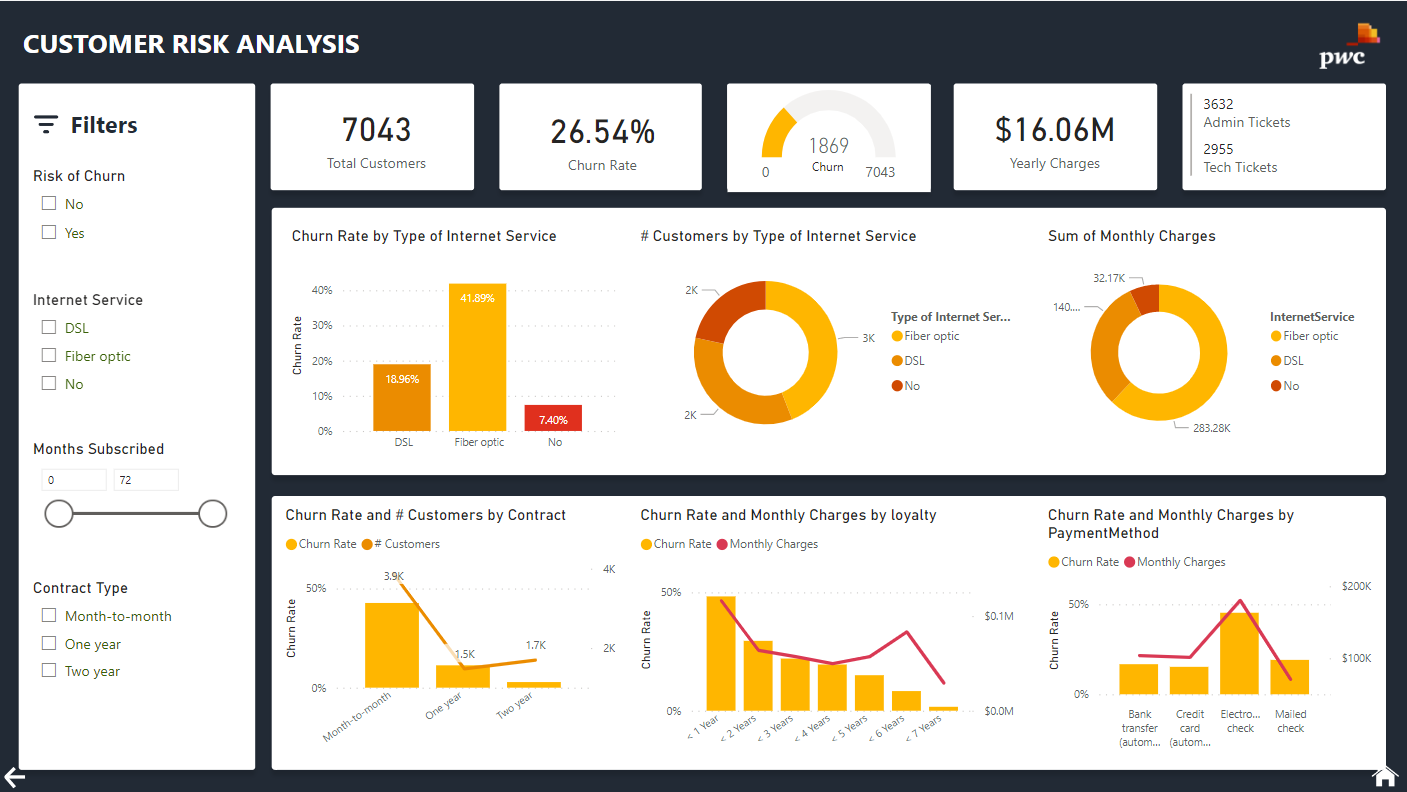

Layout of this report page (visuals, bound fields, positions):
{"tool":"powerbi","page":{"name":"Customer Risk Analysis","canvas":[1280,720],"ordinal":2},"visuals":[{"type":"multiRowCard","fields":{"Values":["_Measures.Admin Tickets","_Measures.Tech Tickets"]},"box":[1077,79.6,185.7,91.7],"z":0},{"type":"card","fields":{"Values":["_Measures.# Customers"]},"box":[247.2,71.2,189.3,103.7],"z":1000},{"type":"card","fields":{"Values":["_Measures.Yearly Charges"]},"box":[869.5,73.6,179.7,97.7],"z":2000},{"type":"card","fields":{"Values":["_Measures.Churn Rate"]},"box":[455.9,78.4,184.5,92.9],"z":3000},{"type":"gauge","fields":{"MaxValue":["_Measures.Total Customers"],"Y":["_Measures.Churned Customers"]},"box":[660.9,76,184.5,97.7],"z":4000},{"type":"clusteredColumnChart","fields":{"Category":["Customers.InternetService"],"Y":["_Measures.Churn Rate"]},"box":[260.5,206.2,303.9,212.3],"z":5000},{"type":"donutChart","fields":{"Y":["_Measures.Total Customers"],"Category":["Customers.InternetService"]},"box":[577.7,206.2,349.7,212.3],"z":6000},{"type":"donutChart","title":"Sum of Monthly Charges ","fields":{"Y":["Sum(Customers.MonthlyCharges)"],"Category":["Customers.InternetService"]},"box":[947.9,206.2,303.9,212.3],"z":7000},{"type":"lineStackedColumnComboChart","fields":{"Category":["Customers.Contract"],"Y":["_Measures.Churn Rate"],"Y2":["_Measures.Total Customers"]},"box":[254.5,459.5,309.9,229.1],"z":8000},{"type":"lineStackedColumnComboChart","fields":{"Category":["Customers.loyalty"],"Y":["_Measures.Churn Rate"],"Y2":["_Measures.Monthly Charges"]},"box":[577.7,459.5,349.7,229.1],"z":9000},{"type":"lineStackedColumnComboChart","fields":{"Y":["_Measures.Churn Rate"],"Y2":["_Measures.Monthly Charges"],"Category":["Customers.PaymentMethod"]},"box":[947.9,459.5,303.9,229.1],"z":10000},{"type":"slicer","title":"Risk of Churn","fields":{"Values":["Customers.Churn"]},"box":[25.3,151,189.3,100.1],"z":11000},{"type":"slicer","title":"Contract Type","fields":{"Values":["Customers.Contract"]},"box":[25.3,524.8,189.3,117],"z":12000},{"type":"slicer","title":"Months Subscribed","fields":{"Values":["Customers.tenure"]},"box":[25.3,399.4,189.3,115.8],"z":13000},{"type":"slicer","title":"Internet Service","fields":{"Values":["Customers.InternetService"]},"box":[25.3,263.1,189.3,126.6],"z":14000},{"type":"textbox","box":[59.1,91.7,188.1,39.8],"z":16000},{"type":"image","box":[25.3,96.5,33.8,31.4],"z":17000},{"type":"textbox","box":[15.7,16.9,326.8,54.3],"z":18000},{"type":"actionButton","box":[0,692.3,33.8,27.7],"z":19000},{"type":"image","box":[1238.6,688.6,41,31.4],"z":20000},{"type":"textbox","box":[718.8,138.7,66.3,32.6],"z":20500}]}

Visuals, with their boxes in screenshot pixels (x1, y1, x2, y2), scaled from the page's 1280x720 canvas onto the 1407x792 screenshot:
multiRowCard - _Measures.Admin Tickets x _Measures.Tech Tickets: region(1184, 88, 1388, 188)
card - _Measures.# Customers: region(272, 78, 480, 192)
card - _Measures.Yearly Charges: region(956, 81, 1153, 188)
card - _Measures.Churn Rate: region(501, 86, 704, 188)
gauge - _Measures.Total Customers x _Measures.Churned Customers: region(726, 84, 929, 191)
clusteredColumnChart - Customers.InternetService x _Measures.Churn Rate: region(286, 227, 620, 460)
donutChart - _Measures.Total Customers x Customers.InternetService: region(635, 227, 1019, 460)
"Sum of Monthly Charges " donutChart: region(1042, 227, 1376, 460)
lineStackedColumnComboChart - Customers.Contract x _Measures.Churn Rate: region(280, 505, 620, 757)
lineStackedColumnComboChart - Customers.loyalty x _Measures.Churn Rate: region(635, 505, 1019, 757)
lineStackedColumnComboChart - _Measures.Churn Rate x _Measures.Monthly Charges: region(1042, 505, 1376, 757)
"Risk of Churn" slicer: region(28, 166, 236, 276)
"Contract Type" slicer: region(28, 577, 236, 706)
"Months Subscribed" slicer: region(28, 439, 236, 567)
"Internet Service" slicer: region(28, 289, 236, 429)
textbox: region(65, 101, 272, 145)
image: region(28, 106, 65, 141)
textbox: region(17, 19, 376, 78)
actionButton: region(0, 762, 37, 791)
image: region(1361, 757, 1406, 791)
textbox: region(790, 153, 863, 188)
